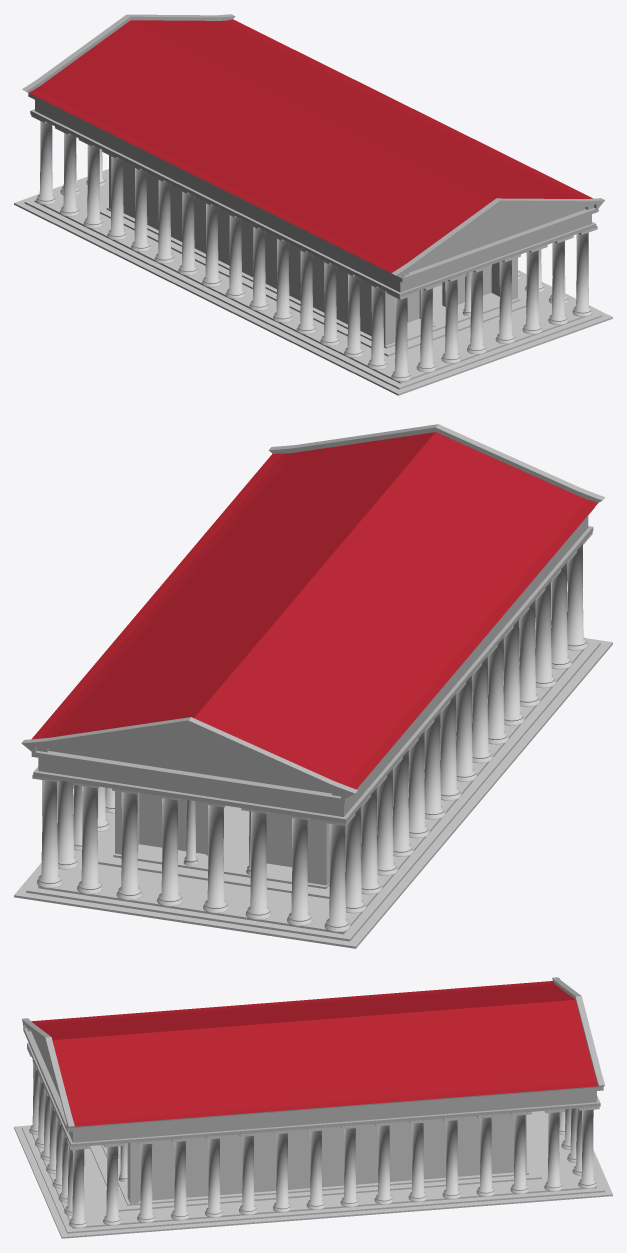
3 views of the same model, one above another, from view 1: azimuth 30°, elevation 25°; view 2: azimuth 150°, elevation 25°; view 3: azimuth 270°, elevation 25° (orthographic). The views are drawn at different scales.
Parts seen in each view (by area): view 1: Plane_030, Box003_001, Circle_006, Cube_030, Circle_002, Circle_008, Circle_004, Circle_007, Circle_214, Circle_009, Circle_005, Cube_032; view 2: Plane_030, Circle_006, Box003_001, Circle_002, Cube_030, Circle_011, Circle_014, Circle_012, Circle_013, Circle_010, Circle_015, Cube_033; view 3: Plane_030, Box003_001, Circle_002, Cube_030, Cube_031, Circle_005, Circle_009, Circle_008, Circle_004, Circle_006, Circle_010, Circle_007 (+2 smaller).
Part boxes in pixels (x1,y1,x2,y2): Plane_030: (22, 14, 604, 297); Box003_001: (14, 169, 612, 395); Circle_006: (31, 115, 416, 381); Cube_030: (123, 160, 499, 336); Circle_002: (518, 226, 597, 316); Circle_008: (416, 282, 441, 372); Circle_004: (522, 244, 547, 334); Circle_007: (441, 273, 466, 363); Circle_214: (548, 235, 573, 325); Circle_009: (495, 254, 520, 343); Circle_005: (467, 264, 491, 354); Cube_032: (383, 290, 395, 345); Plane_030: (21, 424, 604, 823); Circle_006: (320, 532, 592, 931); Box003_001: (14, 628, 612, 948); Circle_002: (32, 774, 114, 888); Cube_030: (138, 657, 488, 867); Circle_011: (112, 788, 142, 900); Circle_014: (241, 808, 271, 919); Circle_012: (152, 794, 182, 906); Circle_013: (198, 801, 228, 913); Circle_010: (72, 782, 102, 894); Circle_015: (282, 814, 312, 925); Cube_033: (307, 818, 329, 885); Plane_030: (22, 977, 604, 1147); Box003_001: (14, 1111, 612, 1238); Circle_002: (66, 1106, 599, 1228); Cube_030: (138, 1113, 514, 1201); Cube_031: (127, 1142, 138, 1203); Circle_005: (44, 1086, 56, 1173); Circle_009: (50, 1100, 62, 1188); Circle_008: (32, 1059, 44, 1147); Circle_004: (56, 1114, 68, 1202); Circle_006: (27, 1046, 38, 1134); Circle_010: (572, 1108, 582, 1175); Circle_007: (38, 1073, 49, 1160).
Bounding box in the file's own units: 86.75 × 38.43 × 143.
